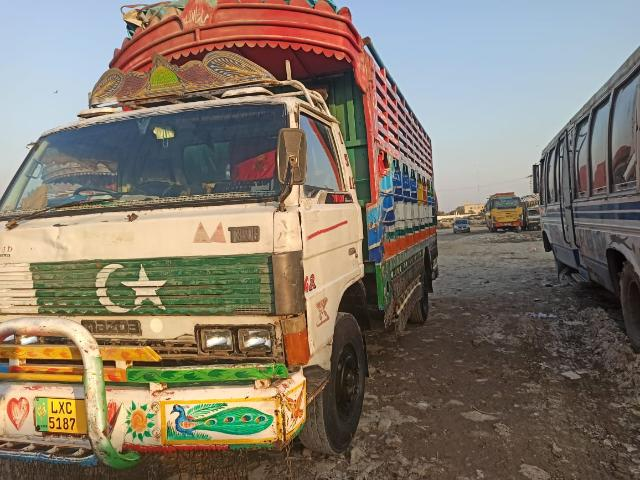plate: (33, 393, 97, 435)
